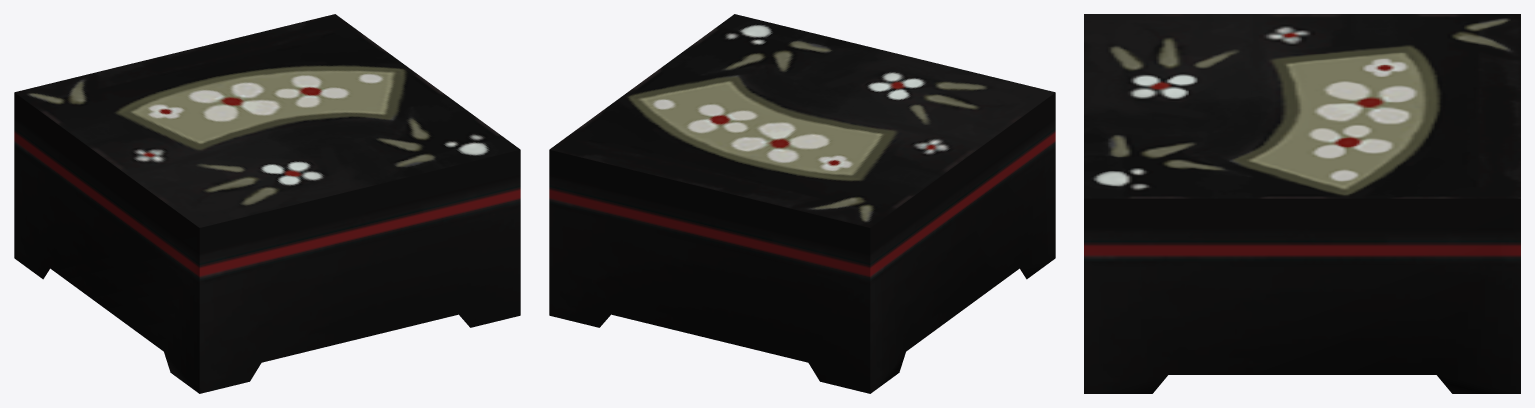
Rendered from GAM_FoodBento01.FBX.
3 renders of one model, left to right at view 1: azimuth 30°, elevation 25°; view 2: azimuth 150°, elevation 25°; view 3: azimuth 270°, elevation 25°, orthographic. The views are drawn at different scales.
Parts seen in each view (by area): view 1: GAM_FoodBento01; view 2: GAM_FoodBento01; view 3: GAM_FoodBento01.
Part boxes in pixels (x1,y1,x2,y2): GAM_FoodBento01: (14, 14, 520, 393); GAM_FoodBento01: (549, 14, 1055, 393); GAM_FoodBento01: (1084, 14, 1520, 393).
Bounding box in the file's own units: 50 × 24.69 × 50.
1 material, 1 textured.
